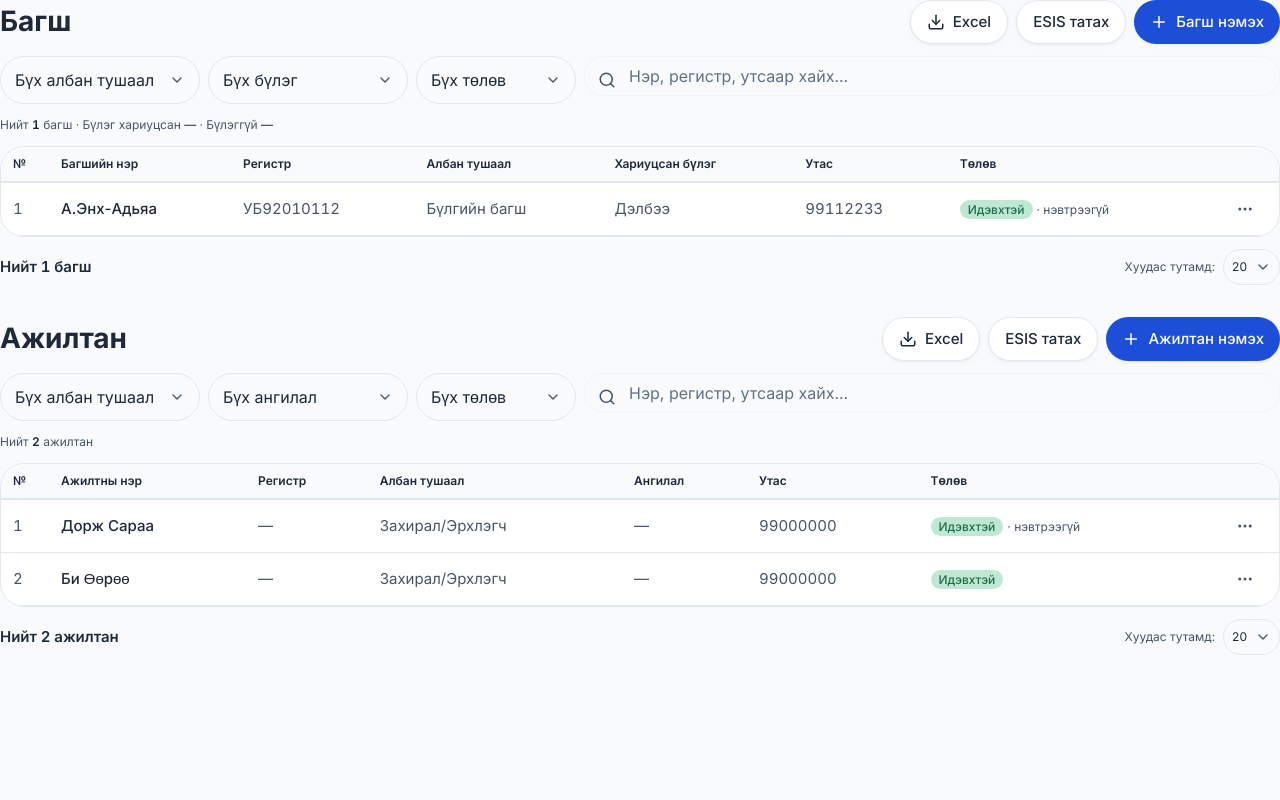
the staff directory › tells who resets a director, and leaves the option off one's own row
The width and height of the screenshot is (1280, 800).
Click the button named "Би Өөрөө — үйлдэл": coordinates (1245, 579) [1223,557,1267,601]
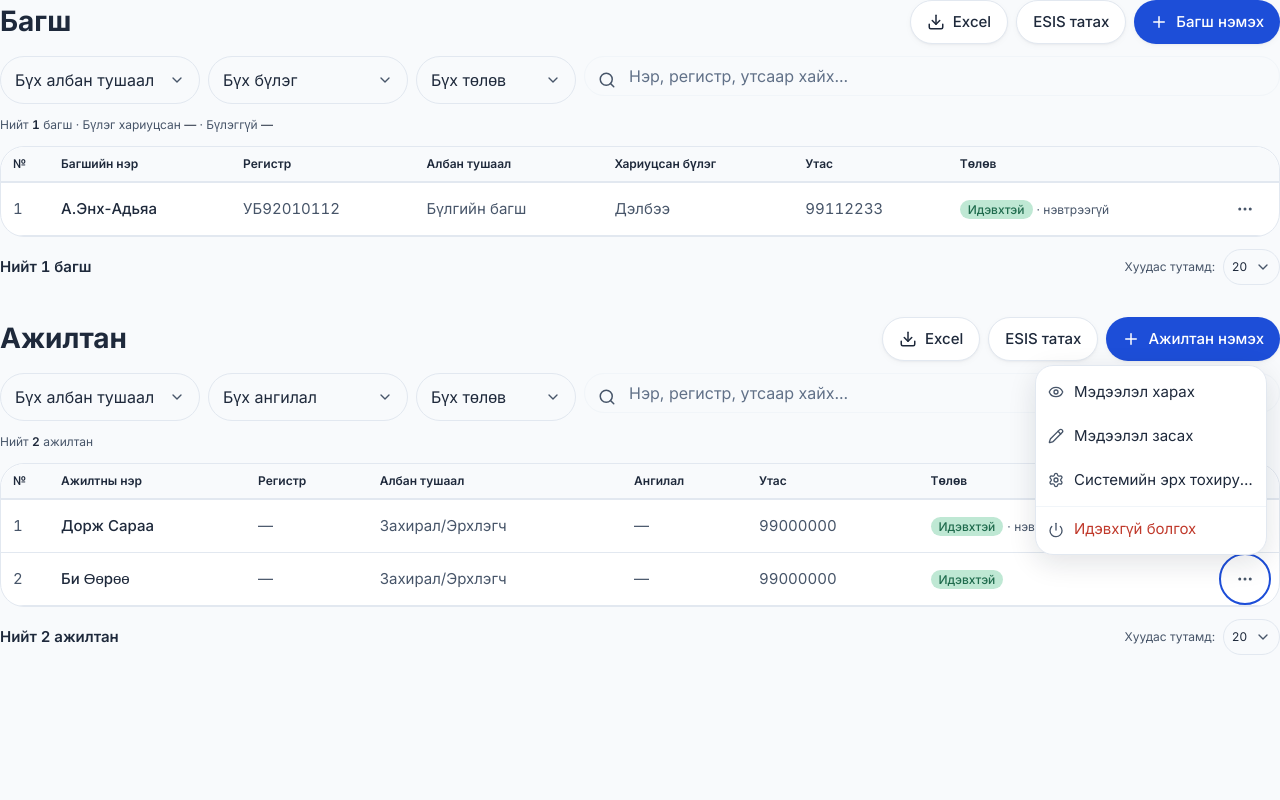
Expected: the menu item "Нууц үг сэргээх" is not shown
Press Escape
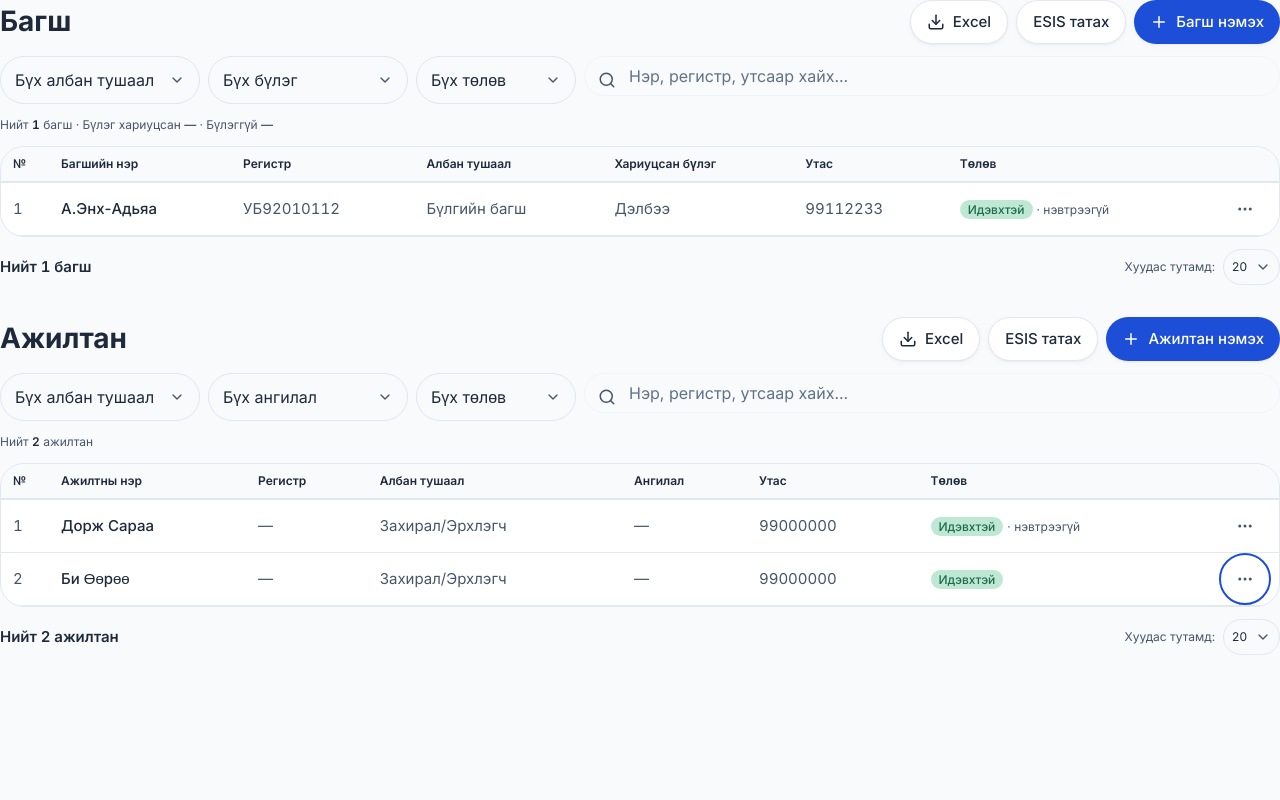
Click the button named "Дорж Сараа — үйлдэл": coordinates (1245, 526) [1223,504,1267,548]
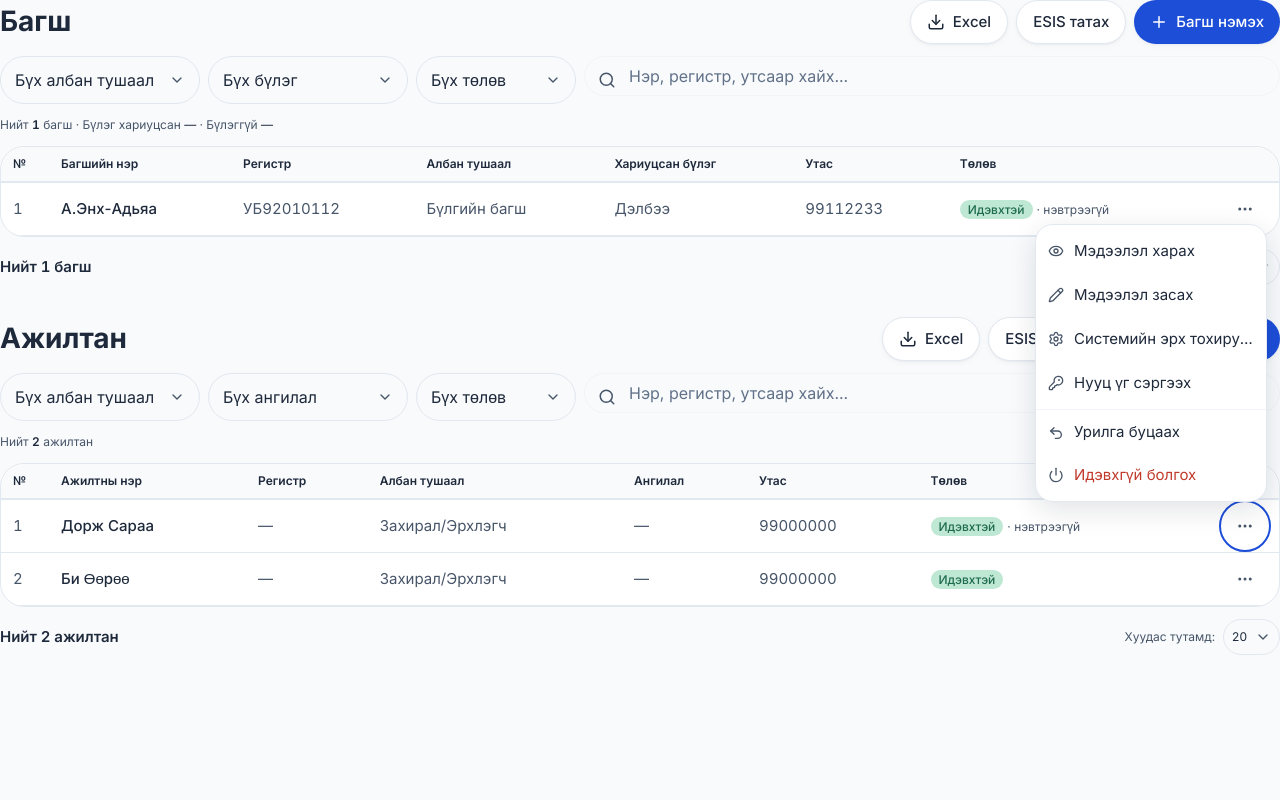
Click the menu item "Нууц үг сэргээх": coordinates (1151, 383) [1036,361,1266,405]
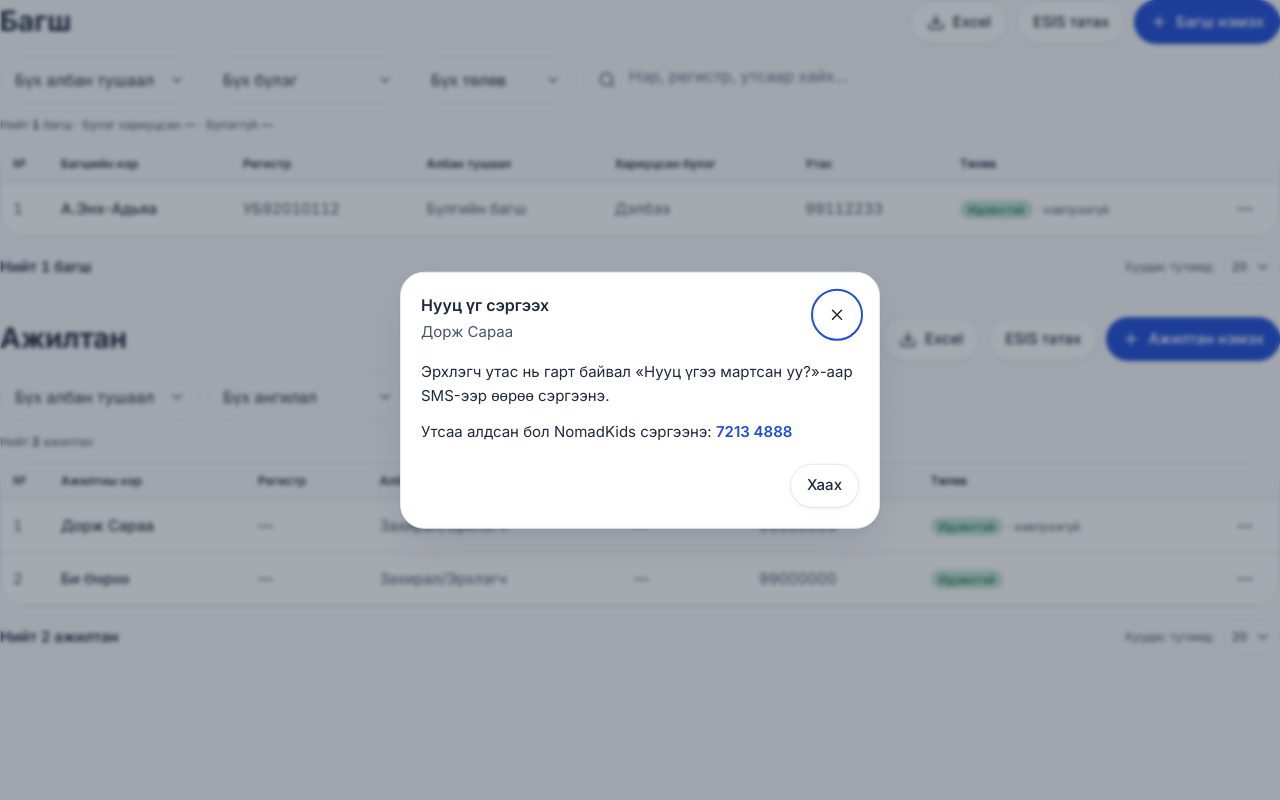
Expected: the dialog "Нууц үг сэргээх" shows "SMS-ээр өөрөө сэргээнэ", [421,361,853,404]
